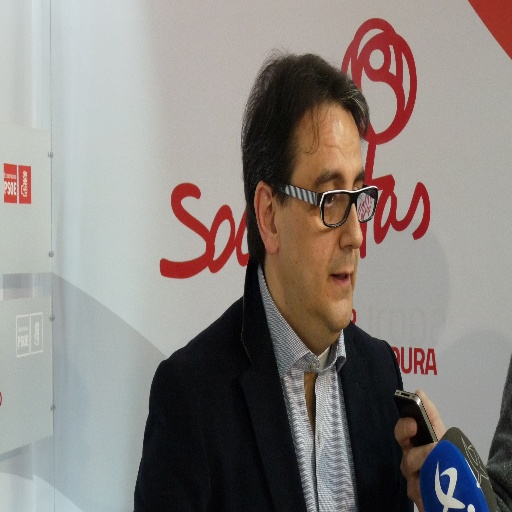hand: (392, 383, 446, 511)
